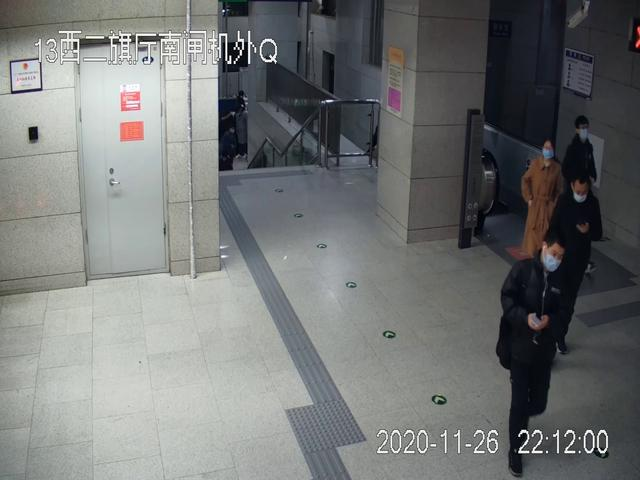person: (496, 231, 569, 480), (545, 176, 602, 358), (520, 136, 564, 291), (566, 114, 601, 270)
